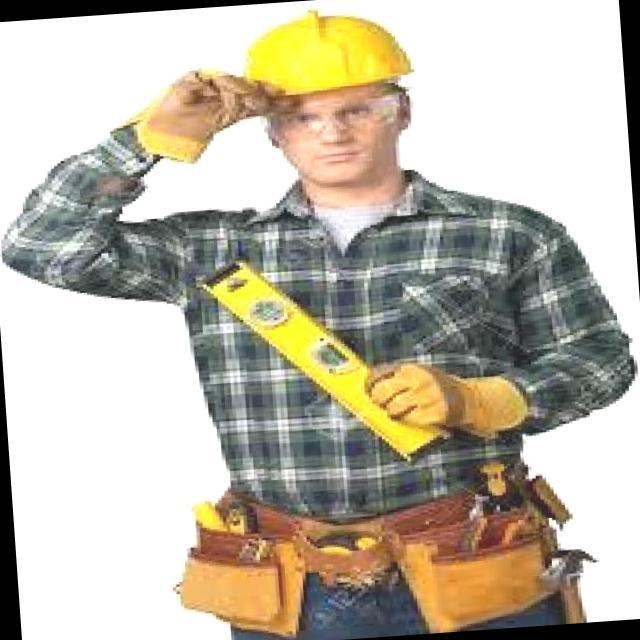Gloves: (358, 335, 534, 454), (122, 56, 287, 167)
Helmet: (238, 0, 412, 96)
Person: (0, 0, 639, 640)
no-vest: (2, 124, 637, 536)
